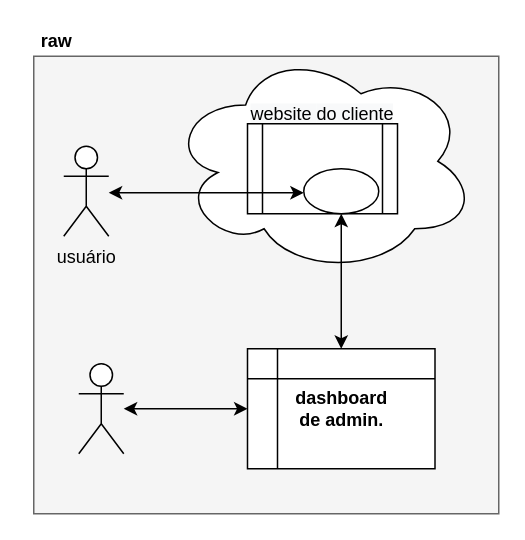
Image size: 525x540. Some labels were removed from this diagram. Here are the shapes that lost their labels. From the top down, the centre of each, then its label:
At (x=340, y=190): "widget".
At (x=100, y=408): "cliente".
